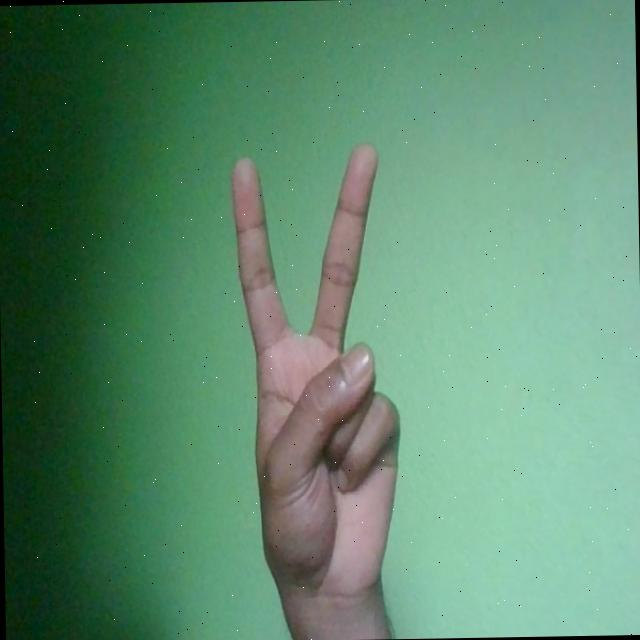Fist: (230, 141, 403, 611)
